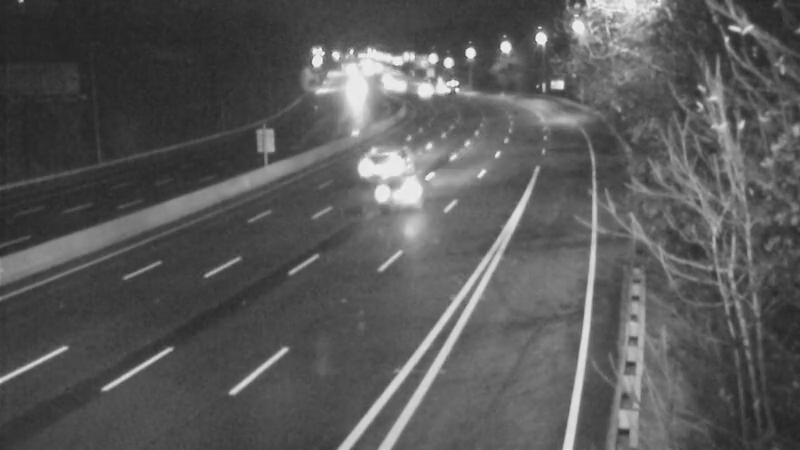vehicle: (333, 127, 413, 207), (362, 158, 442, 238), (426, 63, 476, 113), (402, 64, 452, 114), (328, 67, 378, 117)
